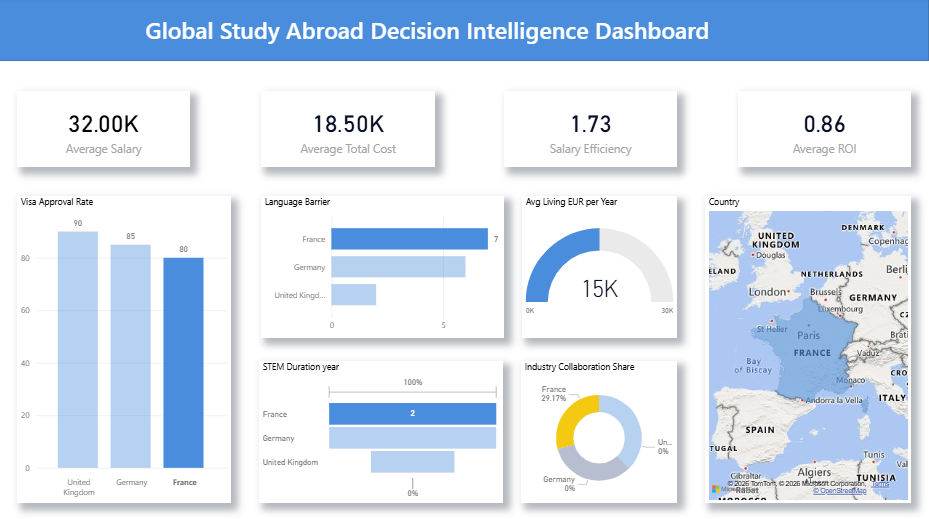

The page's visual inventory and layout, read from the dashboard file:
{"tool":"powerbi","page":{"name":"Page 1","canvas":[1280,720],"ordinal":0},"visuals":[{"type":"clusteredColumnChart","title":"Visa Approval Rate","fields":{"Category":["STEM_Masters_Raw_Data.Country"],"Y":["Sum(STEM_Masters_Raw_Data.Visa_Approval_Rate_Percent)"]},"box":[25,273.3,293.9,423.2],"z":0},{"type":"card","fields":{"Values":["STEM_Masters_Raw_Data.Average ROI"]},"box":[1016.7,130,238.3,105],"z":1000},{"type":"card","fields":{"Values":["STEM_Masters_Raw_Data.Average Salary"]},"box":[25,130,238.3,105],"z":2000},{"type":"card","fields":{"Values":["STEM_Masters_Raw_Data.Average Total Cost"]},"box":[360,130,240,105],"z":3000},{"type":"card","fields":{"Values":["STEM_Masters_Raw_Data.Salary Efficiency"]},"box":[695,130,238.3,105],"z":4000},{"type":"clusteredBarChart","title":"Language Barrier","fields":{"Category":["STEM_Masters_Raw_Data.Country"],"Y":["Sum(STEM_Masters_Raw_Data.Language_Barrier_1_to_10)"]},"box":[360,273.3,335,195.4],"z":5000},{"type":"filledMap","fields":{"Category":["STEM_Masters_Raw_Data.Country"]},"box":[971.7,273.9,283.5,422.5],"z":6000},{"type":"funnel","title":"STEM Duration year","fields":{"Category":["STEM_Masters_Raw_Data.Country"],"Y":["Sum(STEM_Masters_Raw_Data.Duration_Years)"]},"box":[358.5,501.1,336.5,195.4],"z":7000},{"type":"donutChart","title":"Industry Collaboration Share","fields":{"Y":["Sum(STEM_Masters_Raw_Data.Industry_Collaboration_1_to_10)"],"Category":["STEM_Masters_Raw_Data.Country"]},"box":[718.5,501,214.7,195.4],"z":8000},{"type":"gauge","title":"Avg Living EUR per Year","fields":{"Y":["Sum(STEM_Masters_Raw_Data.Avg_Living_EUR_per_Year)"]},"box":[719.8,273.9,213.3,195.4],"z":9000},{"type":"shape","box":[0,0,1279.8,88.2],"z":10000},{"type":"textbox","box":[99.9,17.6,987.4,54.4],"z":11000}]}

Visuals, with their boxes in screenshot pixels (x1, y1, x2, y2), scaled from the page's 1280x720 canvas onto the 929x519 screenshot:
"Visa Approval Rate" clusteredColumnChart: (18,197,231,502)
card - STEM_Masters_Raw_Data.Average ROI: (738,94,911,169)
card - STEM_Masters_Raw_Data.Average Salary: (18,94,191,169)
card - STEM_Masters_Raw_Data.Average Total Cost: (261,94,435,169)
card - STEM_Masters_Raw_Data.Salary Efficiency: (504,94,677,169)
"Language Barrier" clusteredBarChart: (261,197,504,338)
filledMap - STEM_Masters_Raw_Data.Country: (705,197,911,502)
"STEM Duration year" funnel: (260,361,504,502)
"Industry Collaboration Share" donutChart: (521,361,677,502)
"Avg Living EUR per Year" gauge: (522,197,677,338)
shape: (0,0,928,64)
textbox: (73,13,789,52)
